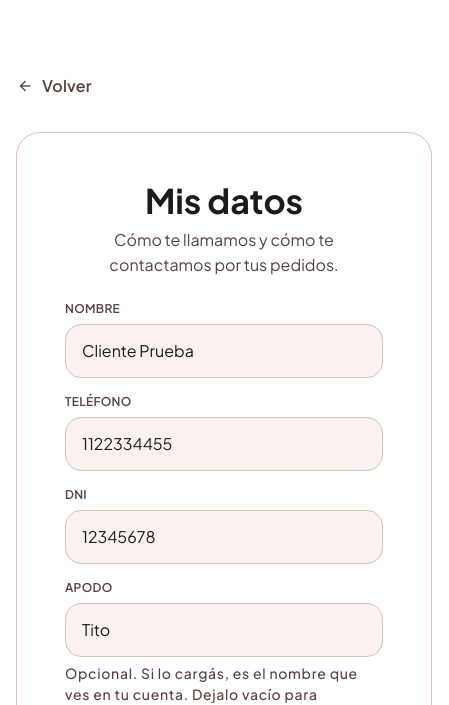
Test: Datos — edición del perfil › un 400 del backend se muestra sin romper la pantalla
Step 1. Replace the text in the field labelled "Apodo" with "x" → (224, 630), box [65,602,383,657]
(page scrolled)
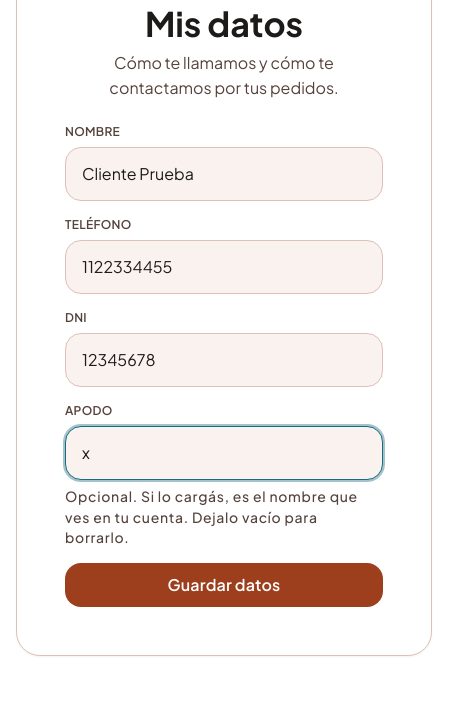
Step 2. Click the button "Guardar datos" → (224, 585), box [65,563,383,607]
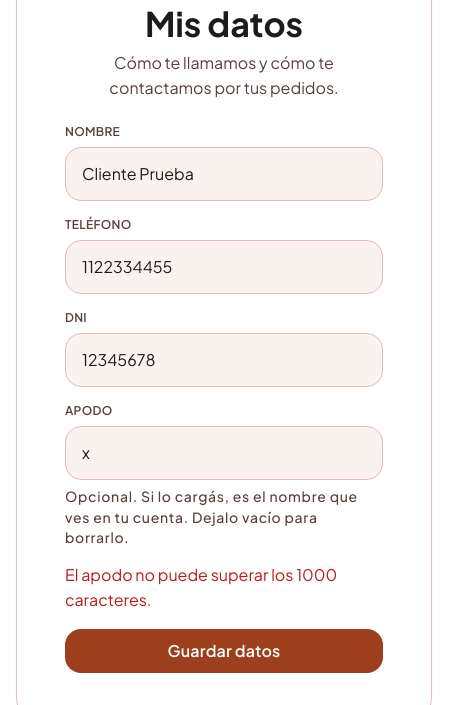
Expected: the text "El apodo no puede superar los 1000 caracteres." is shown, [65,563,383,613]
